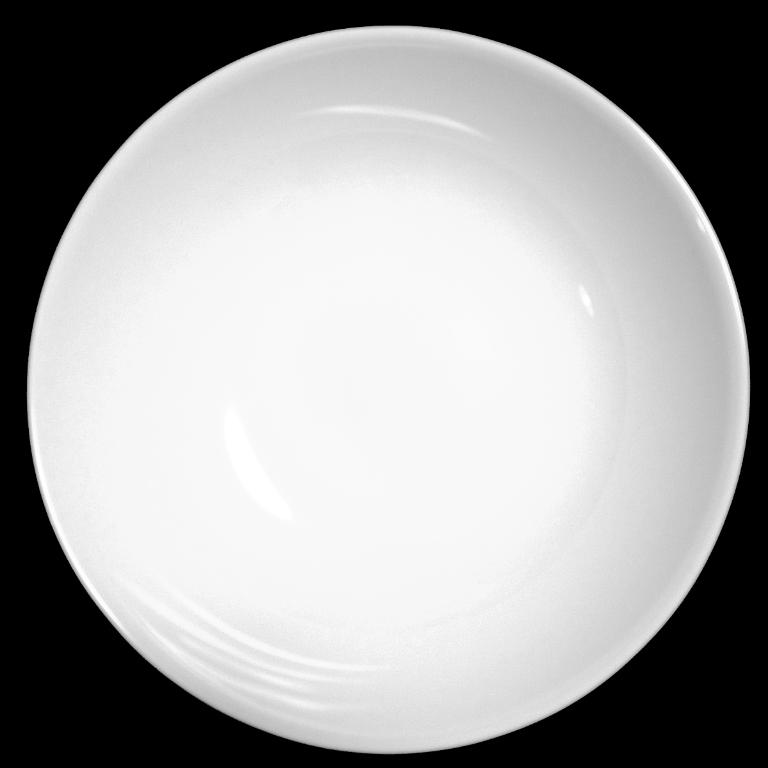plate: (26, 26, 751, 755)
